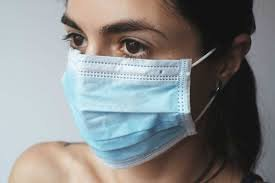mask: (55, 2, 260, 171)
